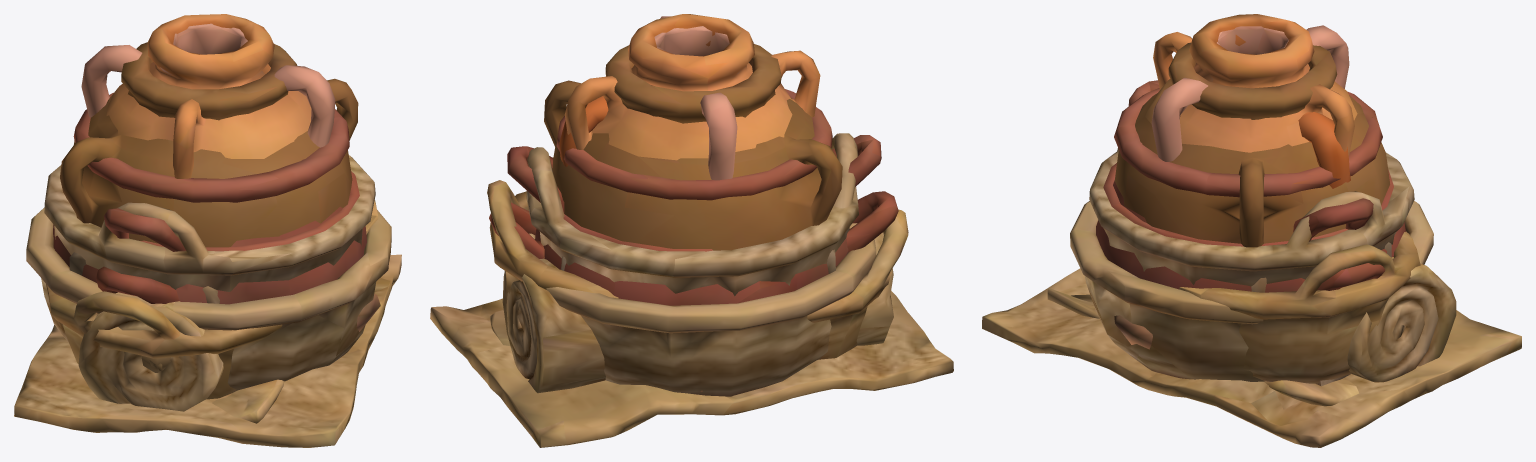
The model's file is objetos_casa.glb.
3 renders of one model, left to right at view 1: azimuth 30°, elevation 25°; view 2: azimuth 150°, elevation 25°; view 3: azimuth 270°, elevation 25°, orthographic. The views are drawn at different scales.
Parts seen in each view (by area): view 1: Pote_Escuro, Esteira, Cesto_Raso, Jarro_Alto, Cesto_Alca, Panela_Barro, Esteira_Enrolada, Cesto_Oval, Jarro_Rosa, Panela_Escura, Banquinho, Prato; view 2: Pote_Escuro, Cesto_Raso, Esteira, Jarro_Alto, Cesto_Alca, Panela_Barro, Esteira_Enrolada, Cesto_Oval, Jarro_Rosa, Panela_Escura, Jarra_Alca; view 3: Pote_Escuro, Esteira, Cesto_Oval, Cesto_Raso, Jarro_Alto, Cesto_Alca, Panela_Barro, Esteira_Enrolada, Jarro_Rosa, Panela_Escura, Jarra_Alca, Prato.
Part boxes in pixels (x1,y1,x2,y2): Pote_Escuro: (60,42,358,247); Esteira: (14,254,401,447); Cesto_Raso: (26,207,391,390); Jarro_Alto: (106,14,311,178); Cesto_Alca: (44,155,375,291); Panela_Barro: (53,92,366,304); Esteira_Enrolada: (78,295,284,423); Cesto_Oval: (46,199,378,399); Jarro_Rosa: (81,23,335,147); Panela_Escura: (96,171,359,303); Banquinho: (69,252,219,303); Prato: (356,294,380,331); Pote_Escuro: (544,44,842,250); Cesto_Raso: (529,233,876,396); Esteira: (430,291,953,447); Jarro_Alto: (564,14,820,160); Cesto_Alca: (526,133,858,296); Panela_Barro: (507,89,881,305); Esteira_Enrolada: (489,223,893,393); Cesto_Oval: (487,180,908,359); Jarro_Rosa: (654,16,740,180); Panela_Escura: (489,191,898,258); Jarra_Alca: (559,96,608,166); Pote_Escuro: (1114,42,1389,247); Esteira: (982,268,1521,447); Cesto_Oval: (1179,231,1420,383); Cesto_Raso: (1070,201,1433,381); Jarro_Alto: (1145,14,1357,156); Cesto_Alca: (1089,148,1414,286); Panela_Barro: (1096,80,1405,292); Esteira_Enrolada: (1047,257,1456,406); Jarro_Rosa: (1151,25,1349,161); Panela_Escura: (1103,163,1393,290); Jarra_Alca: (1298,112,1350,188); Prato: (1114,315,1152,349).
Size of the model in its own units: 0.6533 by 0.438 by 0.686.
2 materials, 2 textured.
